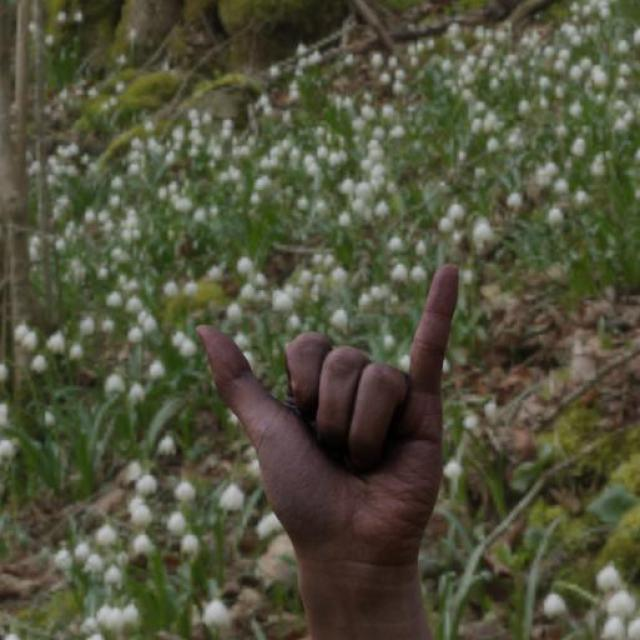Y: (191, 256, 466, 576)
